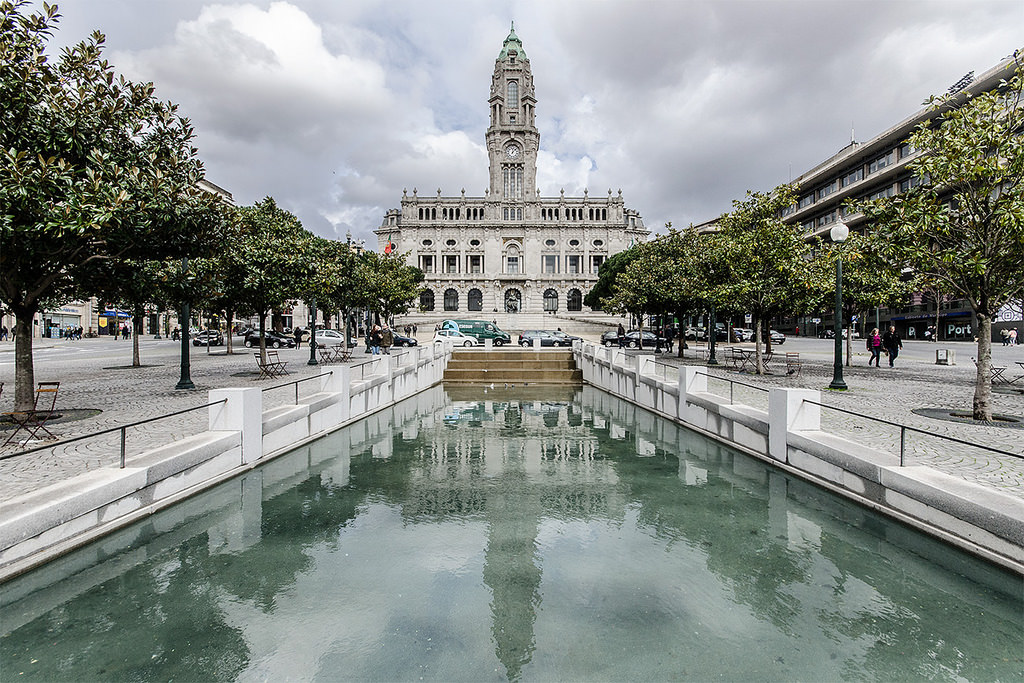camara: (371, 19, 651, 316)
